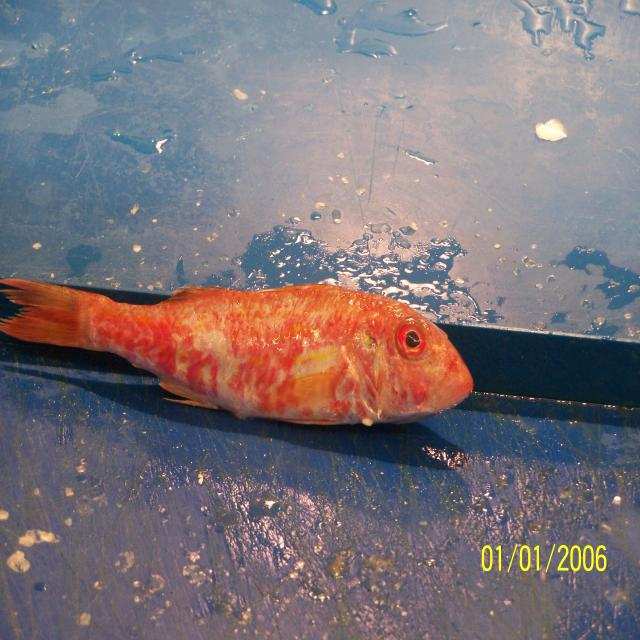Red-Mullet-kefal-: (0, 278, 475, 430)
